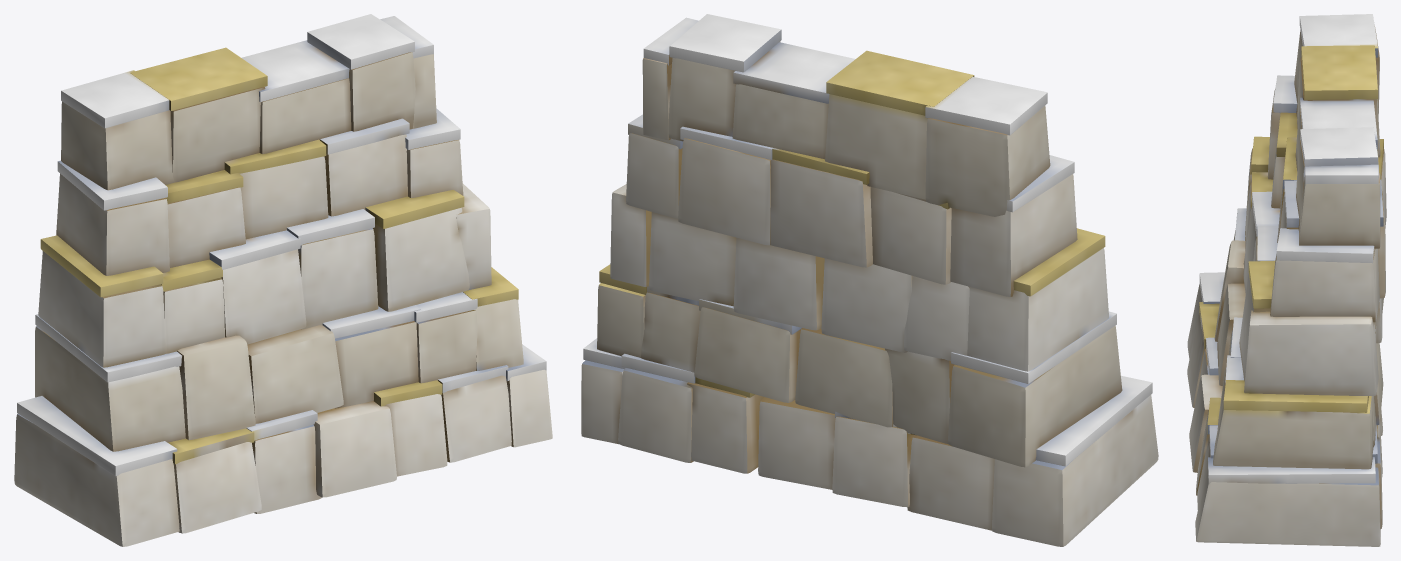
Rendered from Divin_Falaise.fbx.
The picture shows the model from 3 angles, left to right: view 1: azimuth 30°, elevation 25°; view 2: azimuth 150°, elevation 25°; view 3: azimuth 270°, elevation 25°; orthographic projection. The views are drawn at different scales.
Visible parts, largest first — view 1: Divin_Falaise; view 2: Divin_Falaise; view 3: Divin_Falaise.
Part boxes in pixels (x1,y1,x2,y2): Divin_Falaise: (14, 14, 552, 546); Divin_Falaise: (581, 14, 1158, 546); Divin_Falaise: (1187, 14, 1386, 546).
Size of the model in its own units: 3608 by 2962 by 1503.
1 material, 1 textured.
